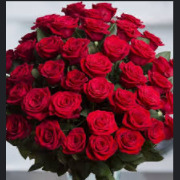RedRose: (52, 89, 83, 122), (35, 118, 65, 151), (37, 14, 76, 36), (79, 52, 112, 78), (113, 108, 156, 127), (83, 136, 117, 160), (63, 124, 89, 155), (84, 76, 115, 102), (2, 110, 28, 141), (103, 35, 132, 62), (119, 128, 149, 154), (81, 15, 112, 40), (88, 108, 116, 135), (3, 60, 34, 84), (137, 88, 167, 112), (129, 40, 155, 67), (28, 88, 51, 118), (116, 64, 147, 86), (60, 36, 87, 61), (32, 36, 62, 57), (117, 17, 144, 38), (3, 81, 24, 108), (152, 53, 175, 77), (38, 60, 64, 81), (146, 70, 173, 90), (152, 122, 174, 144), (13, 32, 34, 55), (117, 88, 136, 111), (68, 66, 86, 88), (87, 0, 118, 12), (65, 2, 81, 15)
